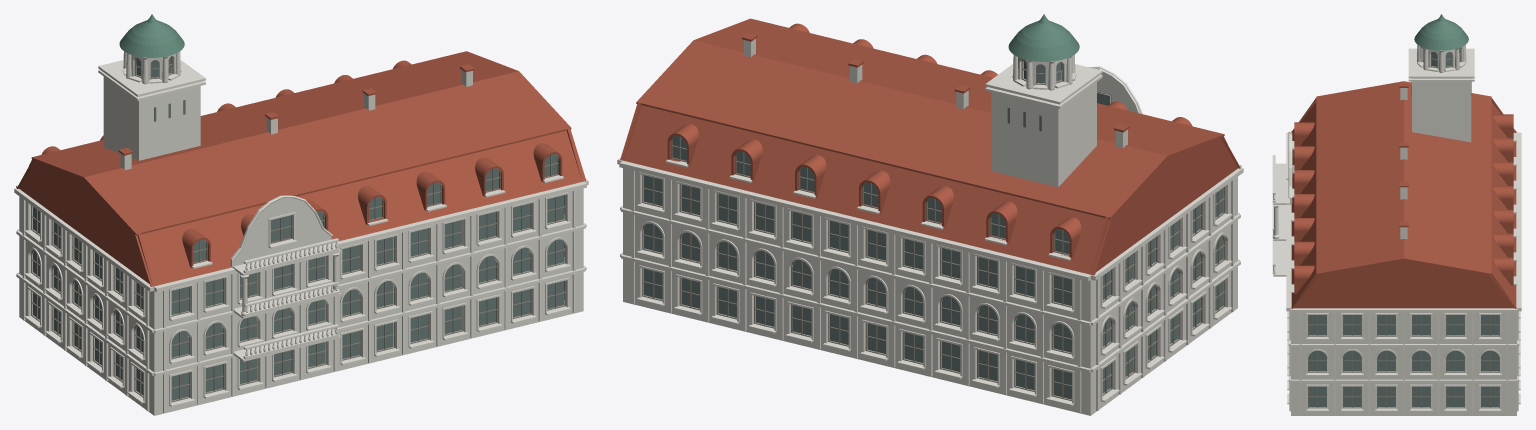
The model's file is hongkou-russian-consulate-raw.glb.
The picture shows the model from 3 angles, left to right: view 1: azimuth 30°, elevation 25°; view 2: azimuth 150°, elevation 25°; view 3: azimuth 270°, elevation 25°; orthographic projection. The views are drawn at different scales.
Parts seen in each view (by area): view 1: hongkou-russian-consulate-raw; view 2: hongkou-russian-consulate-raw; view 3: hongkou-russian-consulate-raw.
Part boxes in pixels (left/top/right/bottom): hongkou-russian-consulate-raw: left=14, top=14, right=588, bottom=415; hongkou-russian-consulate-raw: left=617, top=14, right=1243, bottom=415; hongkou-russian-consulate-raw: left=1272, top=14, right=1521, bottom=415.
Bounding box in the file's own units: 44.98 × 30.8 × 26.47.
